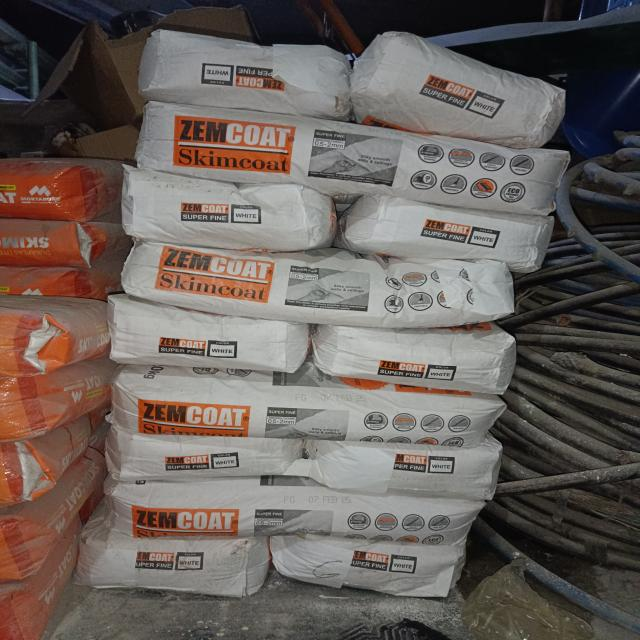Skim coat: (128, 252, 515, 315), (136, 128, 569, 184), (110, 482, 482, 547), (121, 379, 488, 440), (351, 50, 558, 129), (145, 30, 351, 109), (125, 187, 335, 250), (313, 439, 501, 500), (117, 311, 309, 369), (326, 327, 517, 385), (351, 203, 545, 254), (276, 540, 466, 590), (88, 542, 261, 592), (104, 433, 283, 481)
